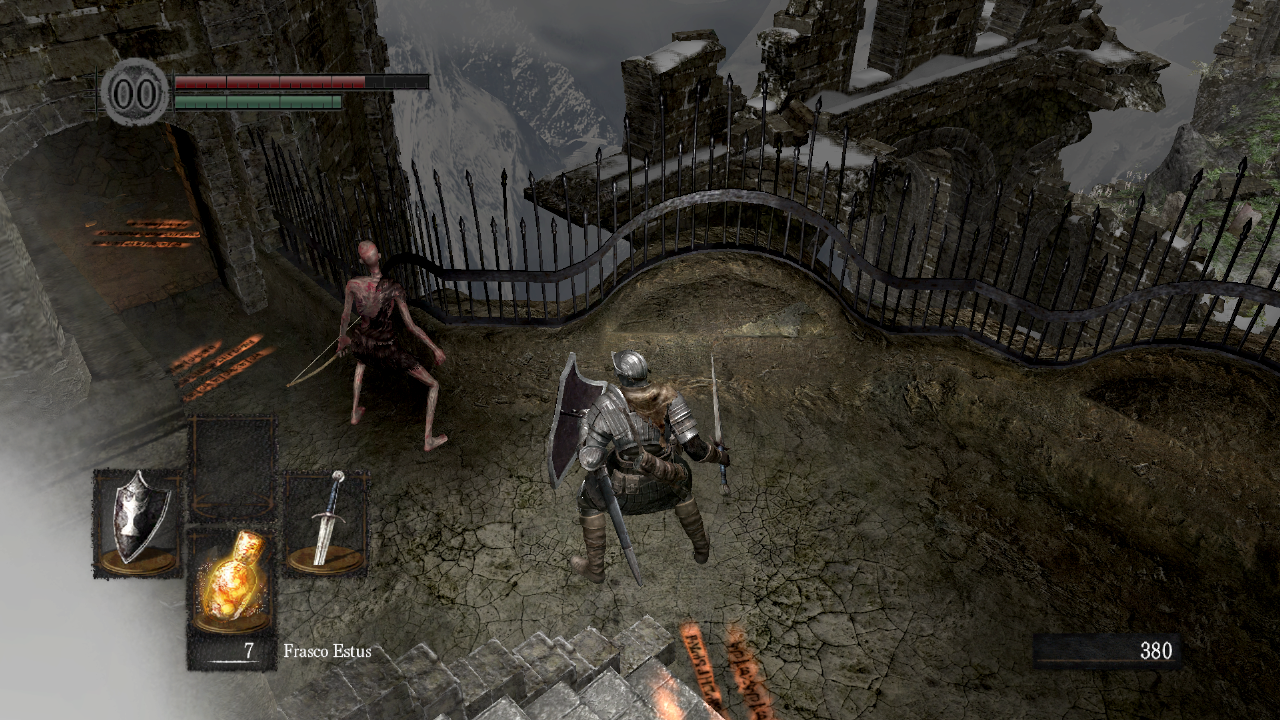hollow: (286, 240, 450, 452)
player: (545, 346, 731, 585)
